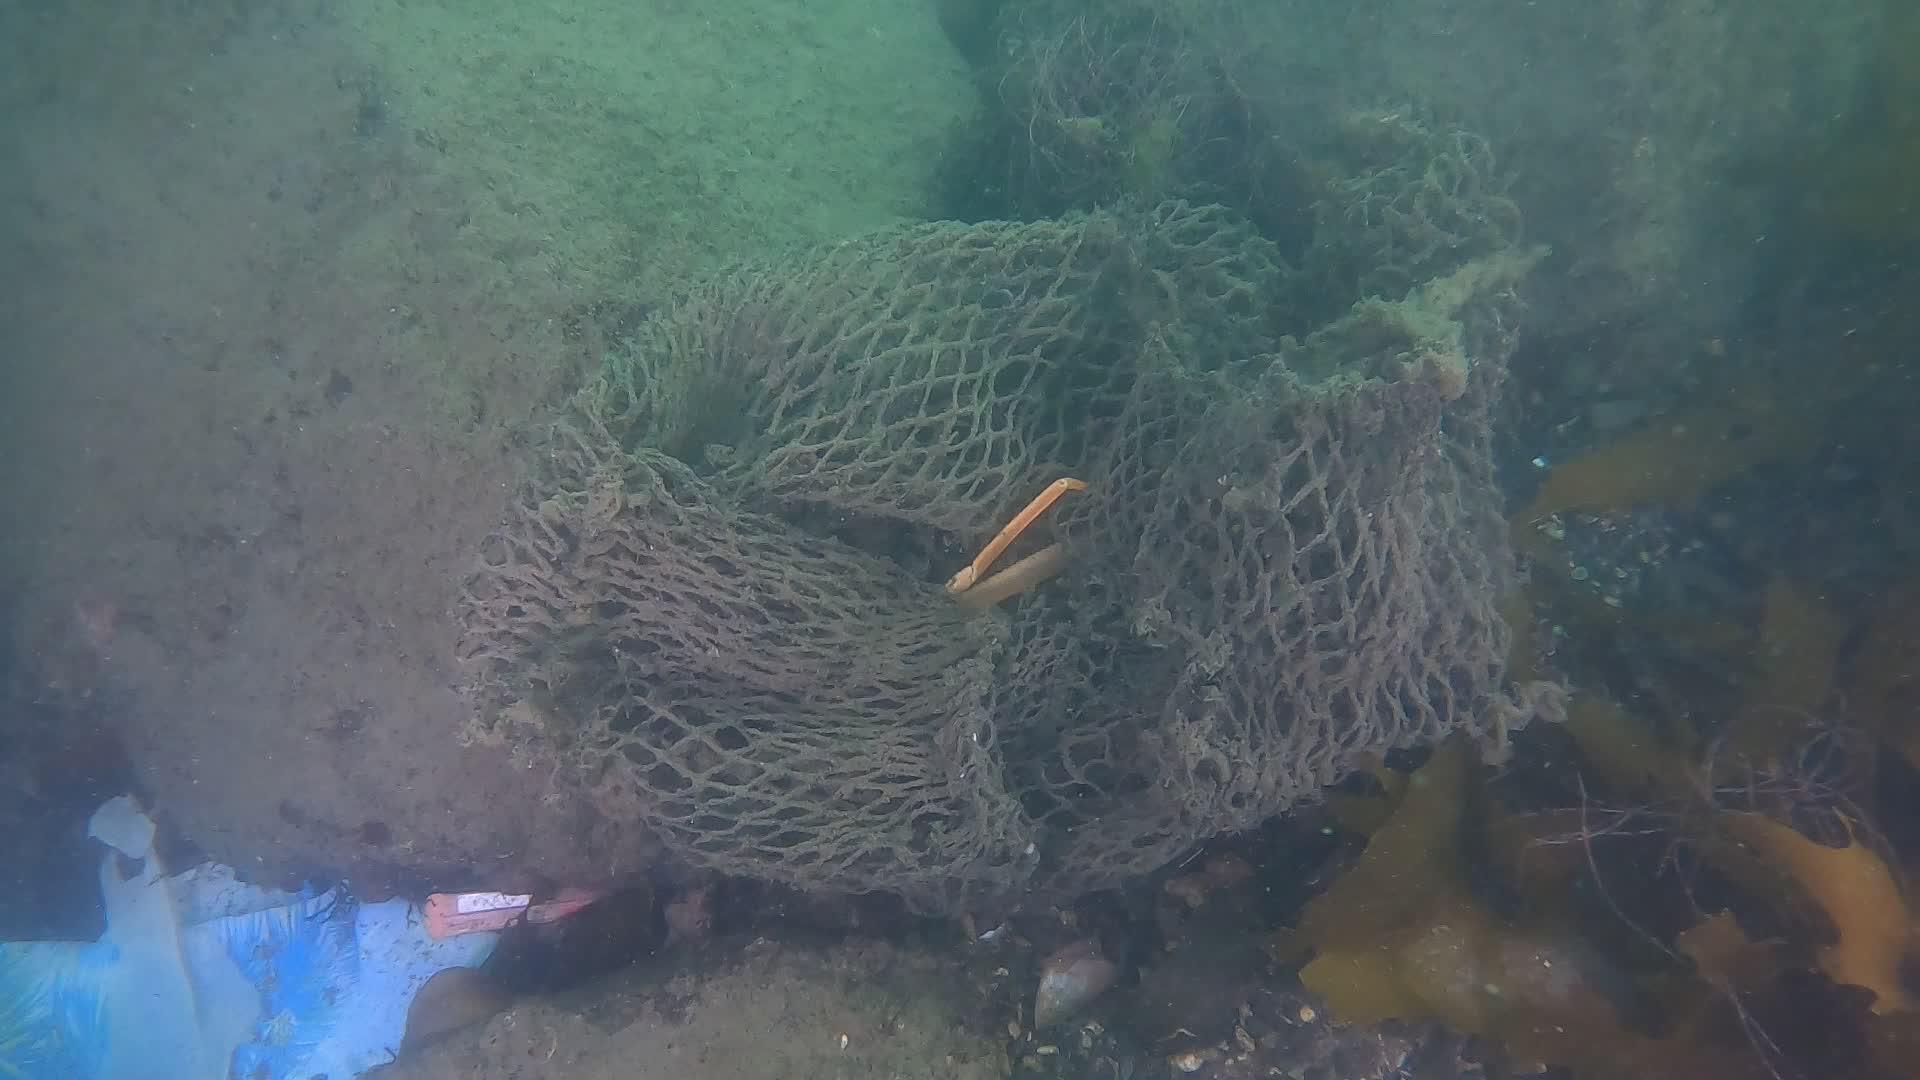fish net: (450, 105, 1523, 902)
